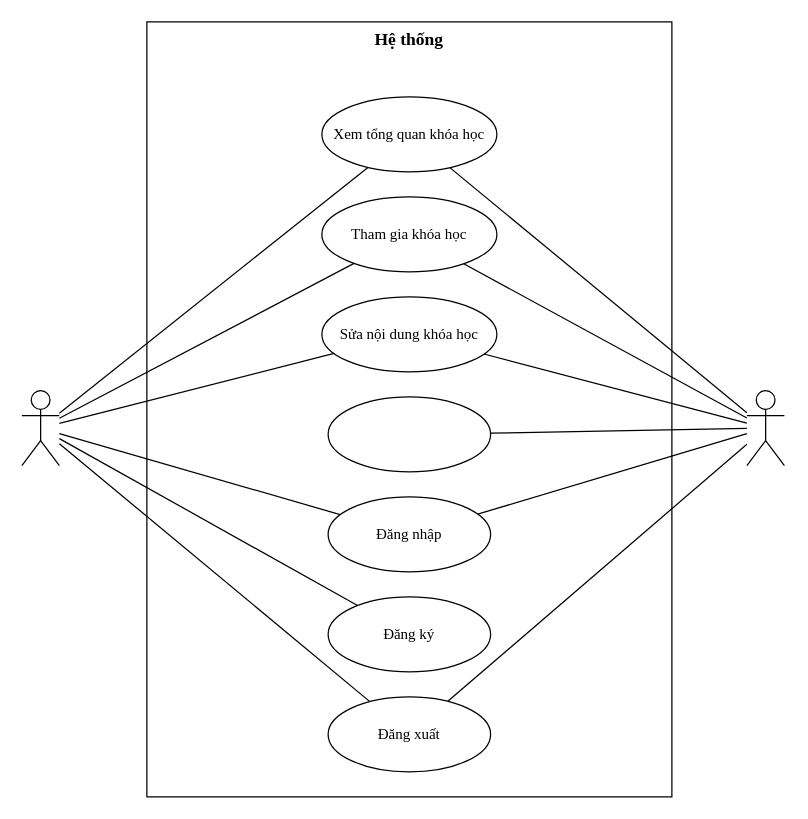
Some shapes in this 808 by 819 pixel diagram are drawn without their labels. The centre of each missing label's shape, as x and y in pixels:
Admin: the point at 765,427
Thống kê: the point at 409,434
User: the point at 40,427
